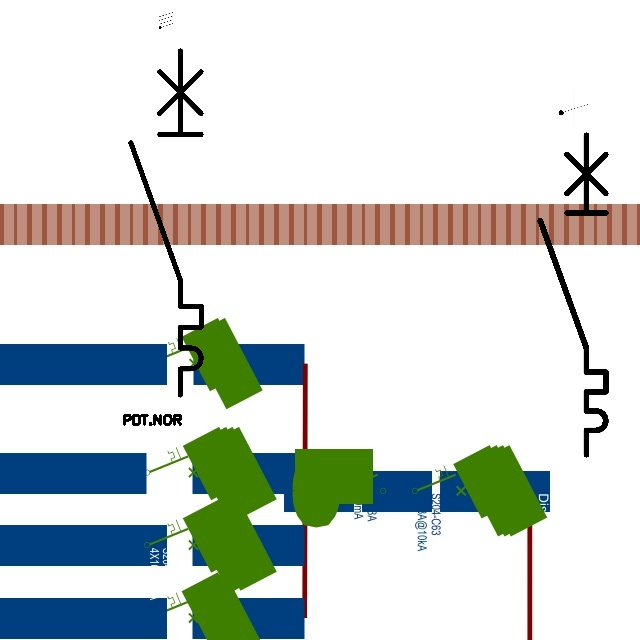interruptor_termomagnetico: (122, 41, 210, 403), (532, 127, 614, 463)
